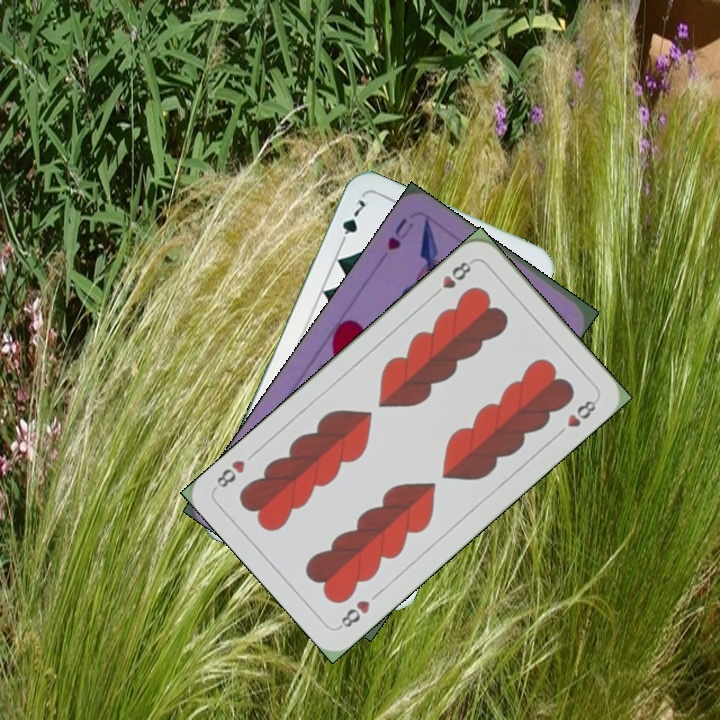G7: (335, 195, 368, 250)
H8: (428, 256, 476, 300), (334, 596, 373, 632)
HU: (383, 214, 417, 253)
